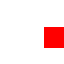square: (44, 27, 64, 47)
